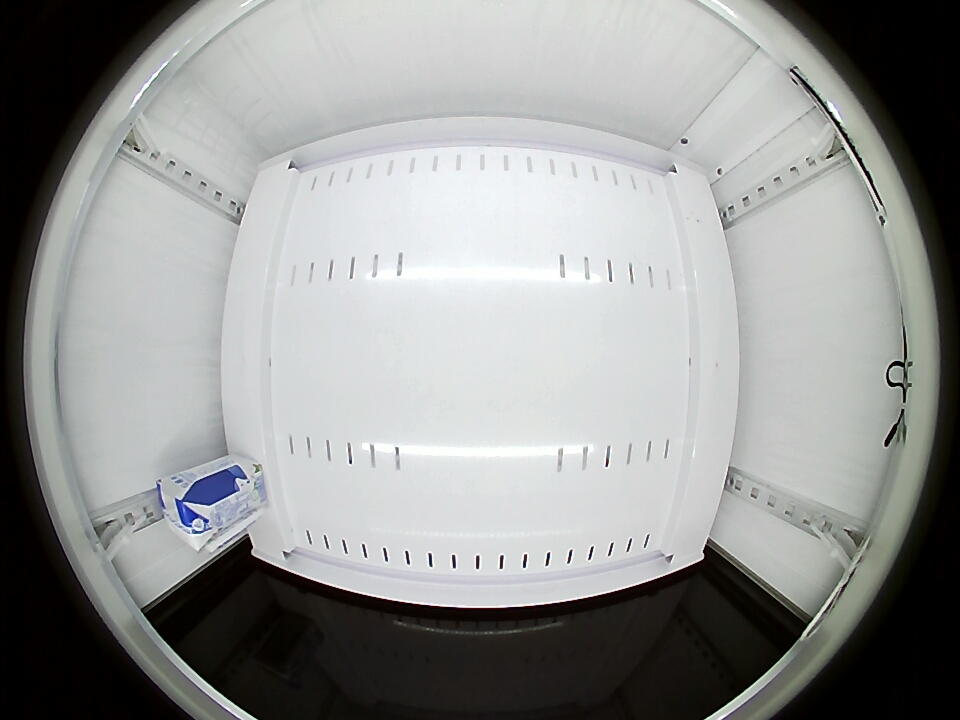anmuxi: (157, 473, 223, 553)
